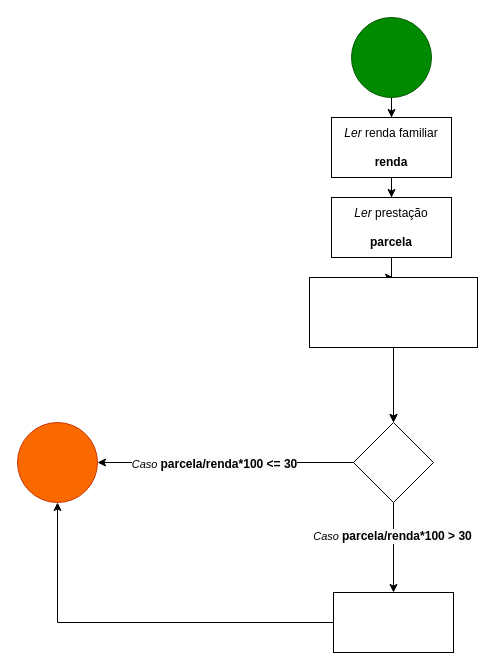
The diagram is 495 pixels wide and 670 high, and some of its shapes have lost their labels. Here are the shapes that lost their labels. From the top down, the centre of each, then its label:
[393,312]: Exibir "A prestação corresponde a (parcela/renda*100) % da renda familiar"
[393,622]: Exibir "Será necessário complementar a renda familiar"
